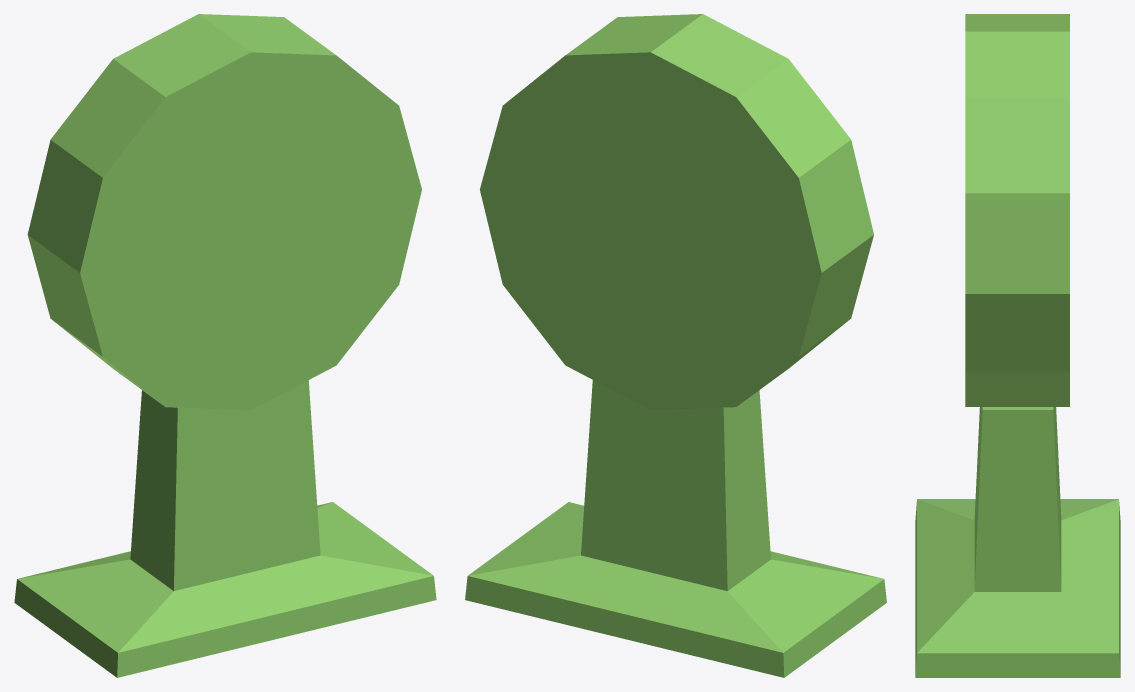
File: UCX_grave_cross_2.fbx
3 views of the same model, side by side, from view 1: azimuth 30°, elevation 25°; view 2: azimuth 150°, elevation 25°; view 3: azimuth 270°, elevation 25° (orthographic).
Visible parts, largest first — view 1: UCX_grave_cross_2; view 2: UCX_grave_cross_2; view 3: UCX_grave_cross_2.
Part boxes in pixels (x1=…): UCX_grave_cross_2: x1=14, y1=14, x2=436, y2=677; UCX_grave_cross_2: x1=465, y1=14, x2=886, y2=677; UCX_grave_cross_2: x1=915, y1=14, x2=1120, y2=677.
Bounding box in the file's own units: 0.7422 × 1.18 × 0.3862.
